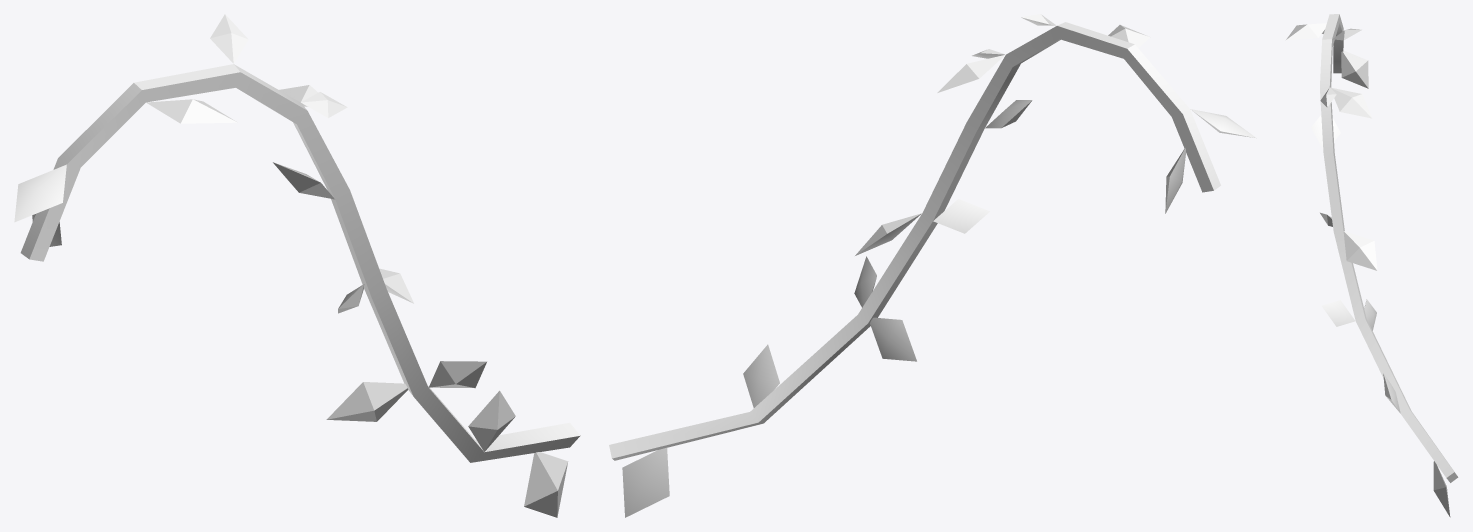
The model's file is vine.fbx.
3 renders of one model, left to right at view 1: azimuth 30°, elevation 25°; view 2: azimuth 150°, elevation 25°; view 3: azimuth 270°, elevation 25°, orthographic. The views are drawn at different scales.
Visible parts, largest first — view 1: vine; view 2: vine; view 3: vine.
Boxes of the visible parts, box(x1,y1,x2,y2) form: vine: box(14, 14, 580, 517); vine: box(609, 14, 1256, 517); vine: box(1286, 14, 1458, 517).
Bounding box in the file's own units: 44.54 × 41.3 × 17.28.
